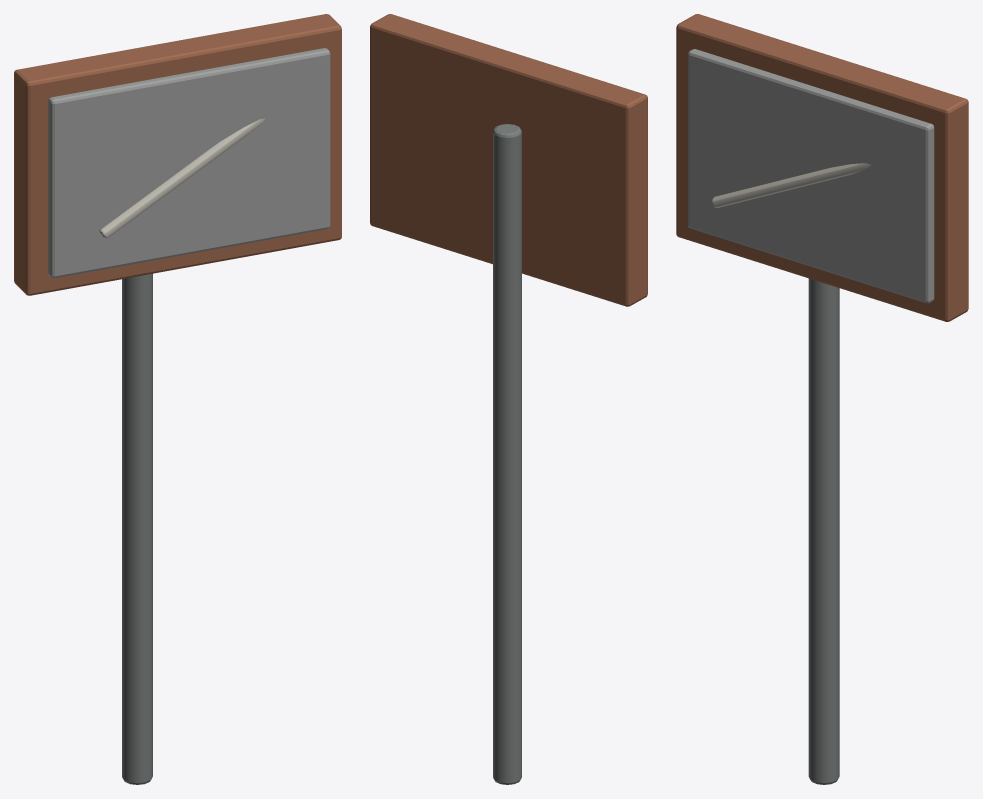
The model's file is Apoc_Prop_Damaged_Road_Sign.fbx.
3 views of the same model, side by side, from view 1: azimuth 30°, elevation 25°; view 2: azimuth 150°, elevation 25°; view 3: azimuth 330°, elevation 25° (orthographic). The views are drawn at different scales.
Parts seen in each view (by area): view 1: Apoc_Prop_Damaged_Road_Sign; view 2: Apoc_Prop_Damaged_Road_Sign; view 3: Apoc_Prop_Damaged_Road_Sign.
Part boxes in pixels (x1,y1,x2,y2): Apoc_Prop_Damaged_Road_Sign: [14, 14, 341, 784]; Apoc_Prop_Damaged_Road_Sign: [370, 14, 647, 784]; Apoc_Prop_Damaged_Road_Sign: [676, 14, 968, 784].
Bounding box in the file's own units: 1.22 × 2.91 × 0.3705.
